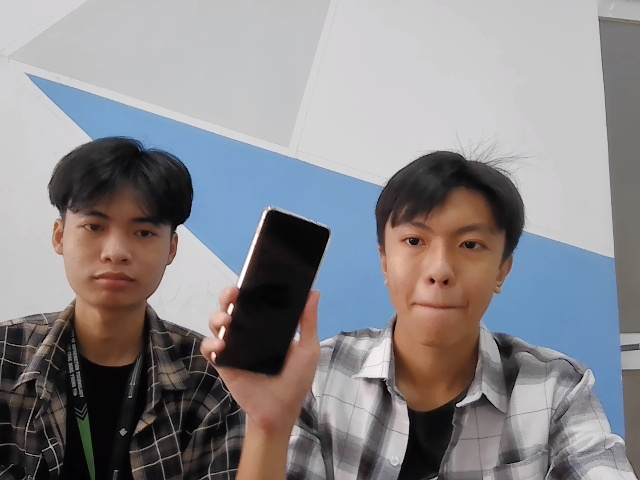human: (374, 142, 526, 353), (53, 144, 193, 318)
phone: (213, 201, 330, 385)
